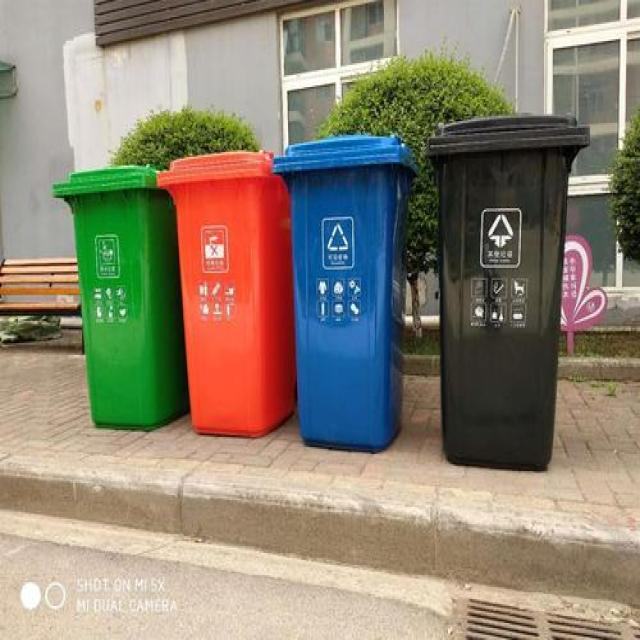garbage_bin: (425, 109, 590, 471), (270, 130, 417, 452), (155, 148, 294, 437), (50, 162, 188, 432)
